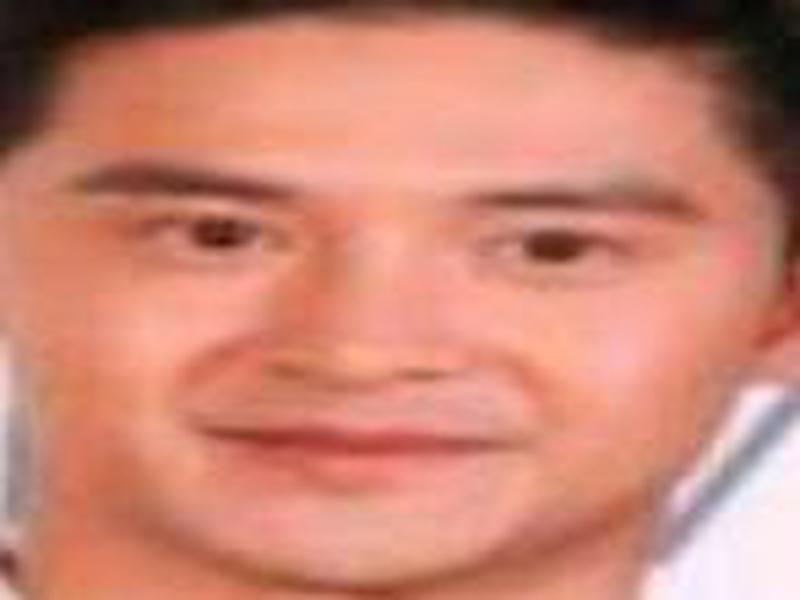without_mask: (34, 67, 736, 585)
